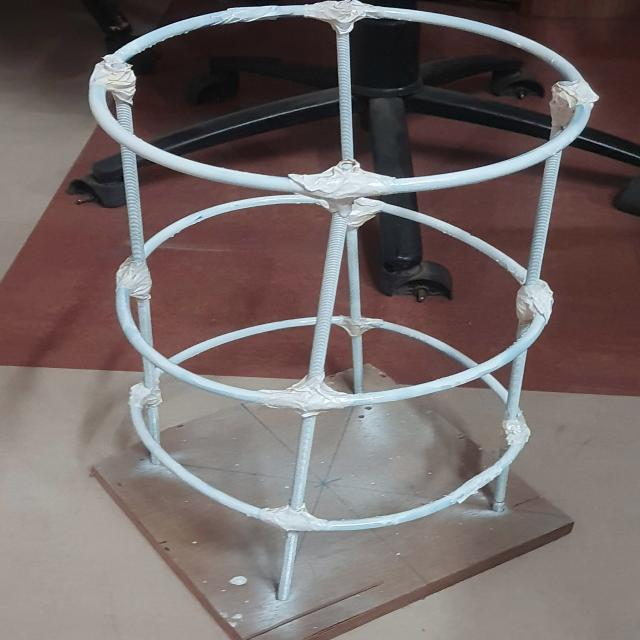silo: (63, 0, 579, 640)
